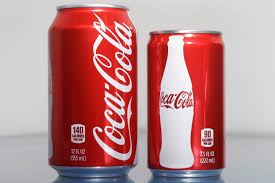can: (45, 1, 142, 183), (145, 25, 228, 182)
